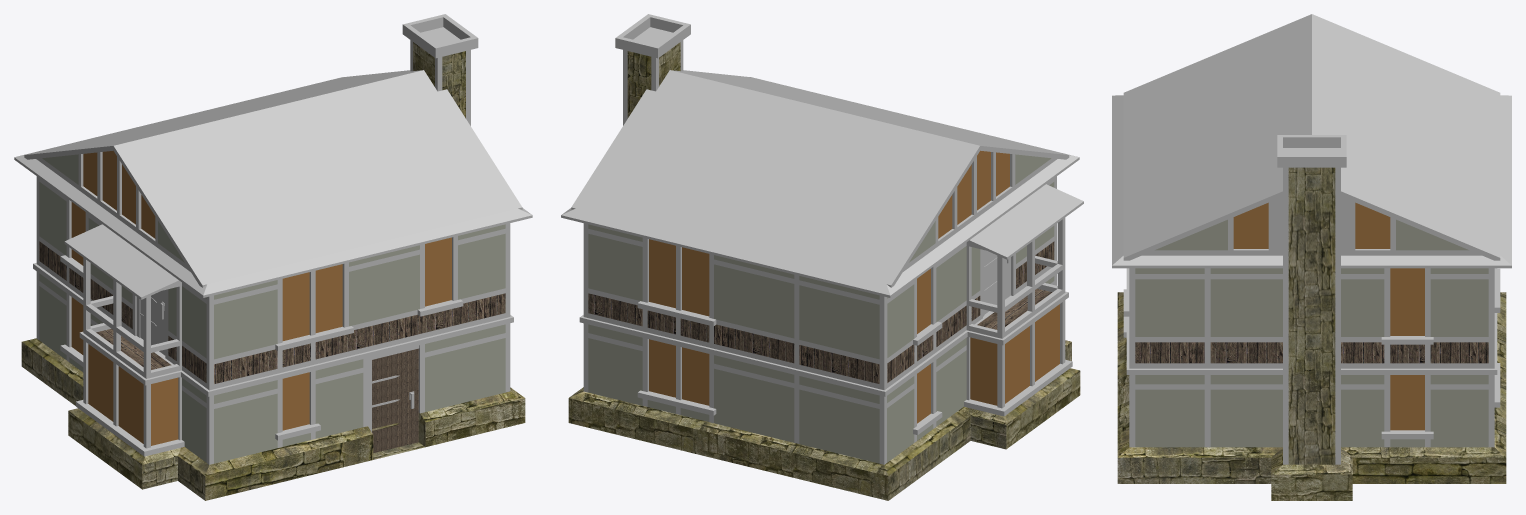
Rendered from DIIMedievalHouse.FBX.
The picture shows the model from 3 angles, left to right: view 1: azimuth 30°, elevation 25°; view 2: azimuth 150°, elevation 25°; view 3: azimuth 270°, elevation 25°; orthographic projection. The views are drawn at different scales.
Visible parts, largest first — view 1: Komponente, Group001; view 2: Komponente, Group001; view 3: Komponente, Group001.
Part boxes in pixels (x1,y1,x2,y2): Komponente: [14, 14, 532, 464]; Group001: [21, 154, 525, 500]; Komponente: [561, 14, 1083, 464]; Group001: [568, 154, 1080, 500]; Komponente: [1112, 14, 1511, 464]; Group001: [1117, 219, 1506, 500].
Bounding box in the file's own units: 8242 × 6500 × 6900.
